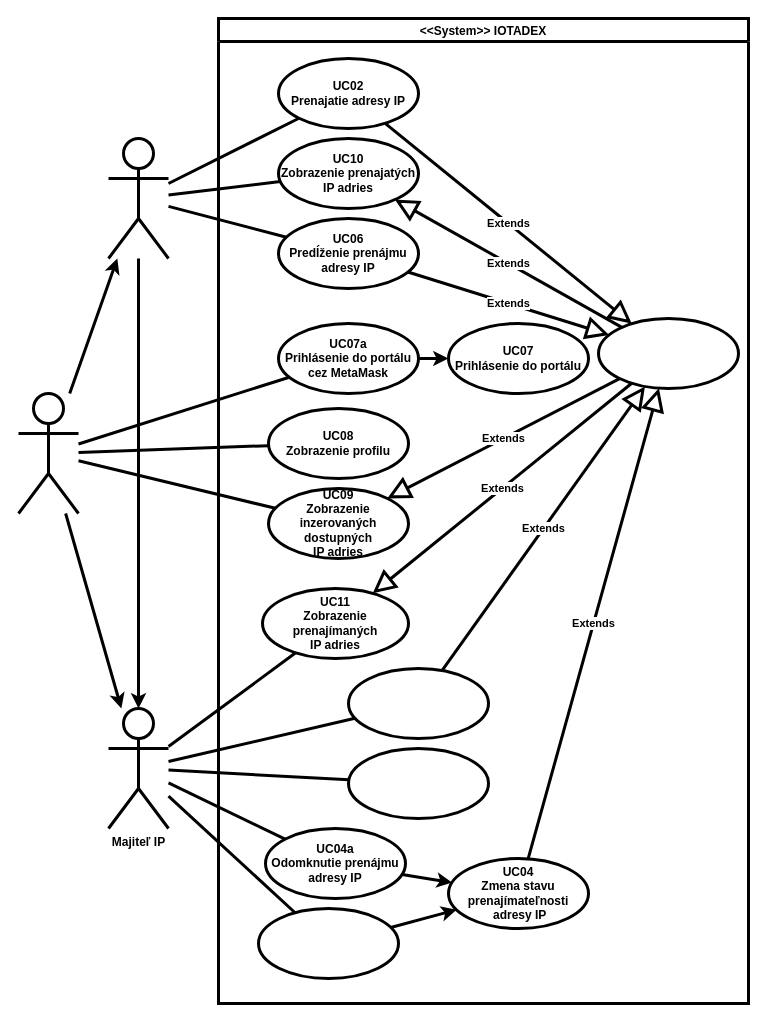
This 767x1022 diagram has some shape labels left out. Each missing label, with the centre of its shape:
Nájomca: the point at 138,198
Používateľ: the point at 48,453
UC01 Pridanie adresy IP: the point at 418,783
UC03 Odobratie adresy IP: the point at 418,703
UC04b Uzamknutie prenájmu adresy IP: the point at 328,943
UC12 Zobrazenie adresy IP: the point at 668,353
